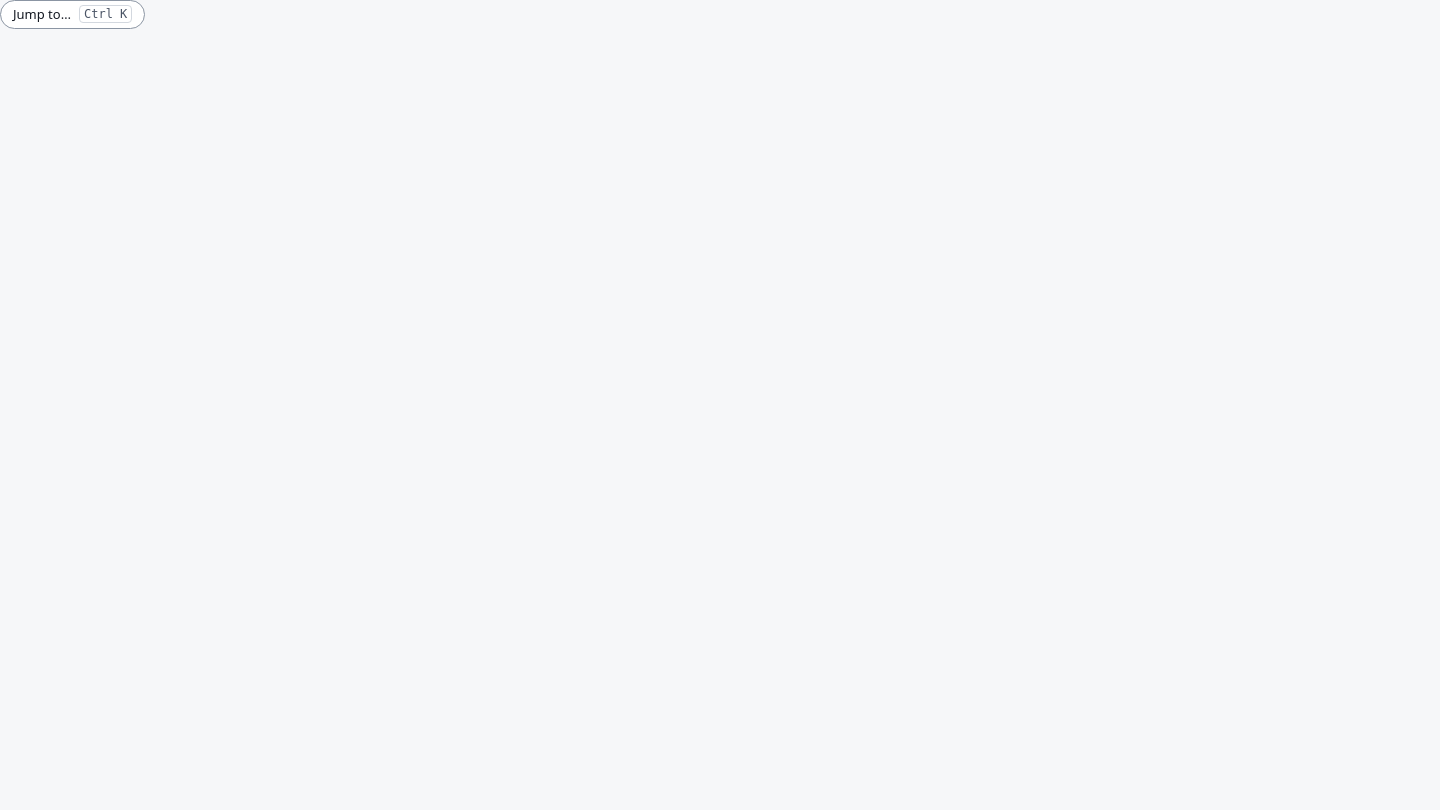
Test: CommandPalette › opens with Ctrl+K, filters as you type, moves with arrows, goes with Enter and closes
The image size is (1440, 810).
Type keys "{Control>}k{/Control}"
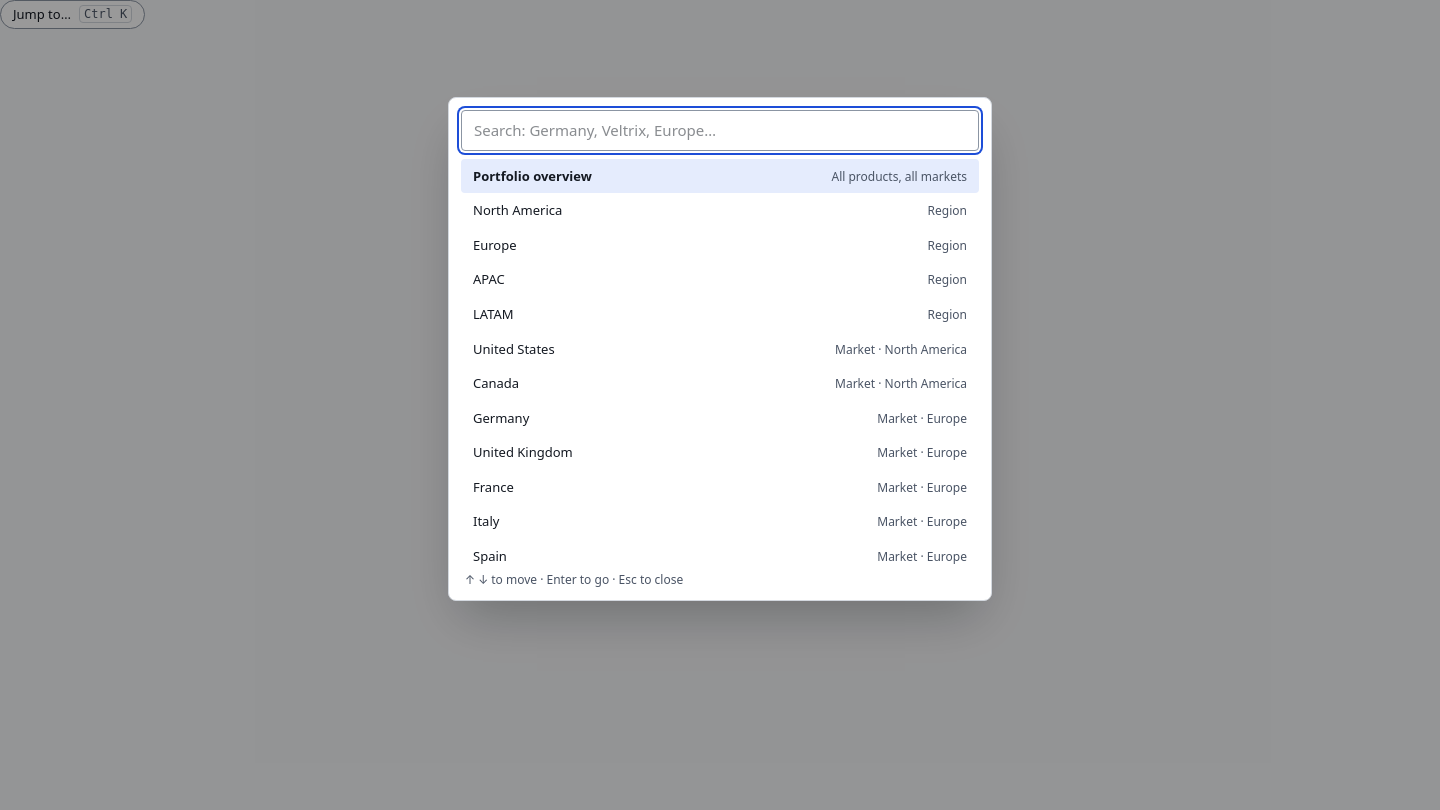
Type "japan" into the dropdown named "Search regions". click: (720, 130)
box: 461,110 -> 979,151
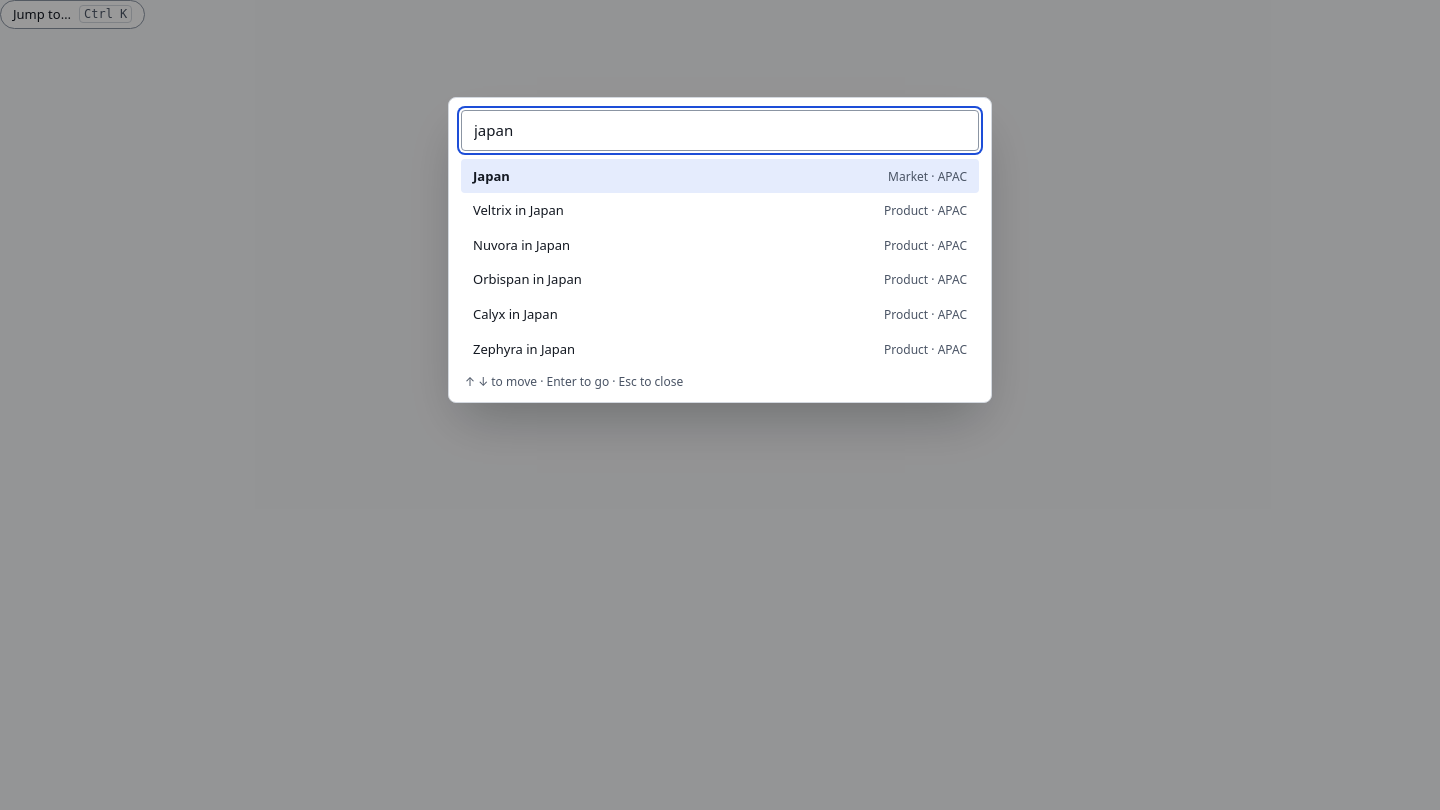
Expected: the option "Japan Market · APAC" is shown, 461,159 -> 979,193
Press Arrowdown
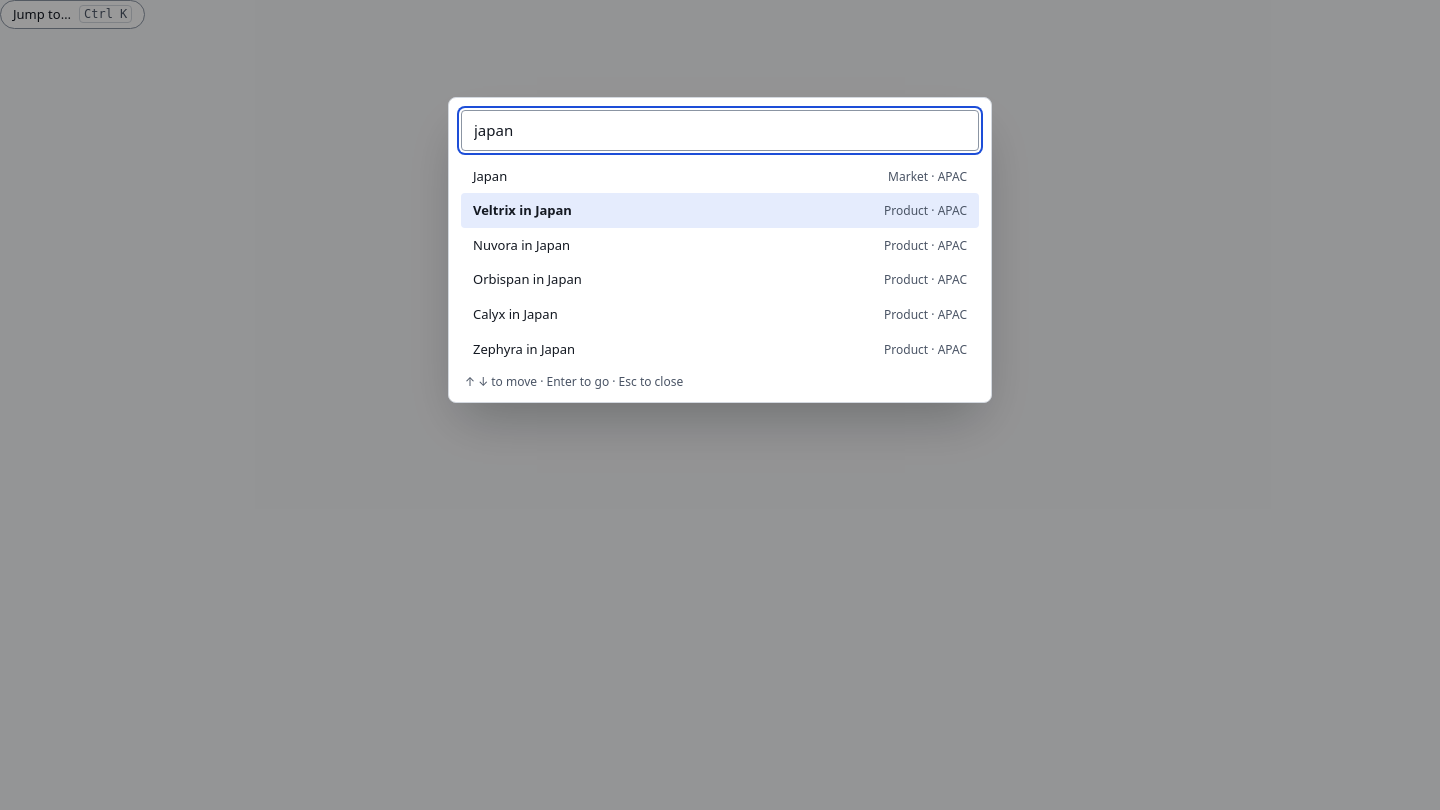
Expected: the option "Veltrix in Japan Product · APAC" is selected, 461,193 -> 979,228
Press Arrowup Enter
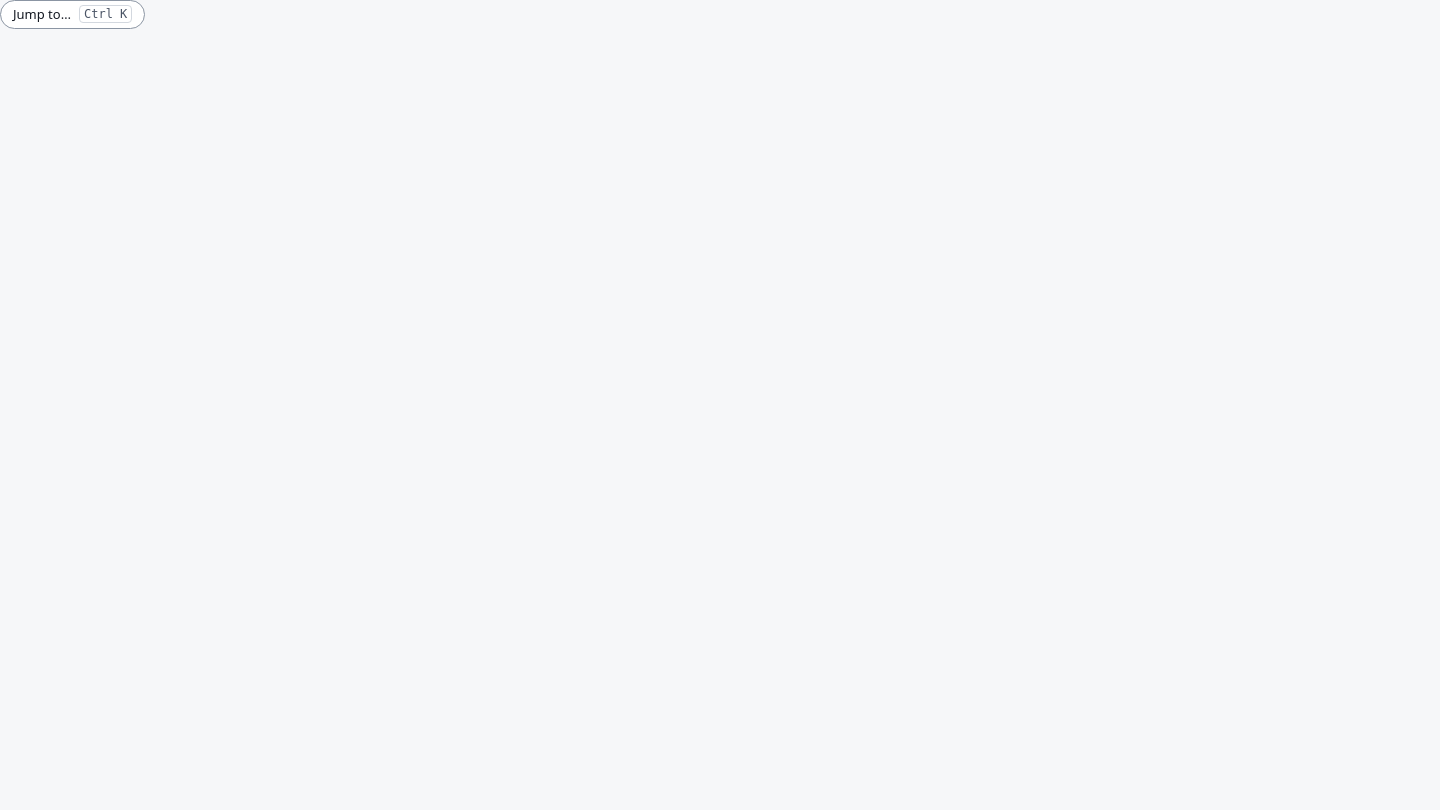
Expected: the dropdown is gone
